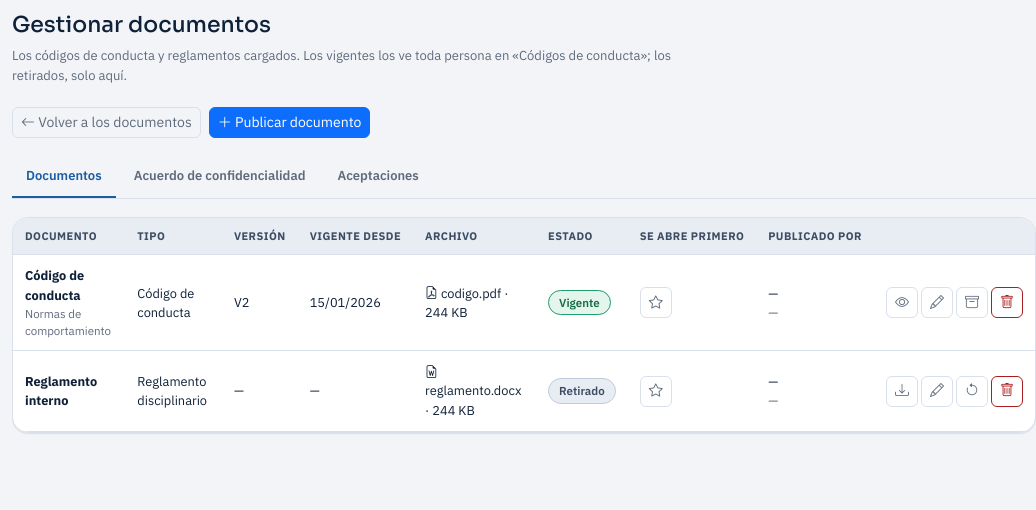
Test: Gestionar documentos › muestra quién falta, quién aceptó y cuándo
Click the tab "Aceptaciones": [378, 177] box [324,156,433,198]
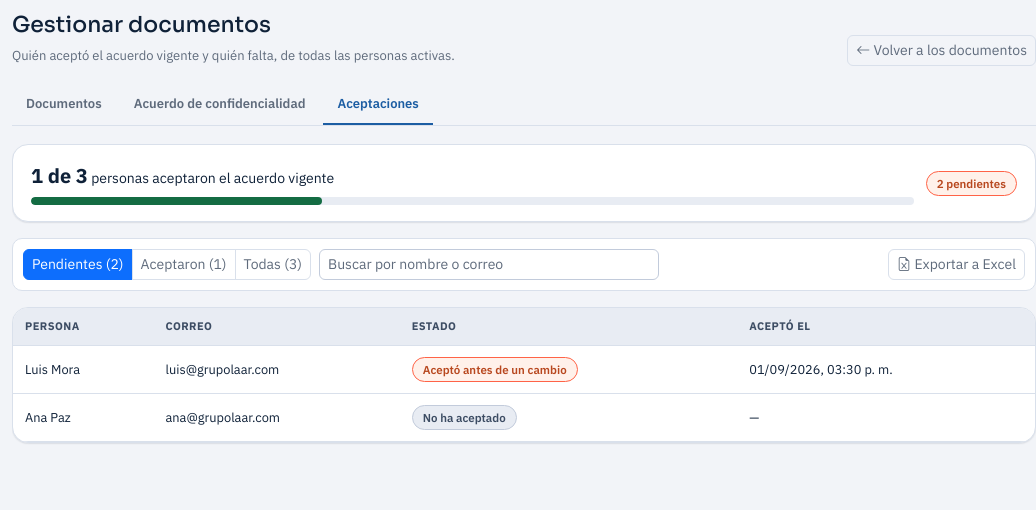
Expected: the text "1 de 3" is shown, [31,162,88,189]
Expected: the text "2 pendientes" is shown, [926,171,1017,196]
Expected: the text "Aceptó antes de un cambio" is shown, [412,357,578,382]
Click the button "Aceptaron (1)": [184, 265] box [132,249,236,280]
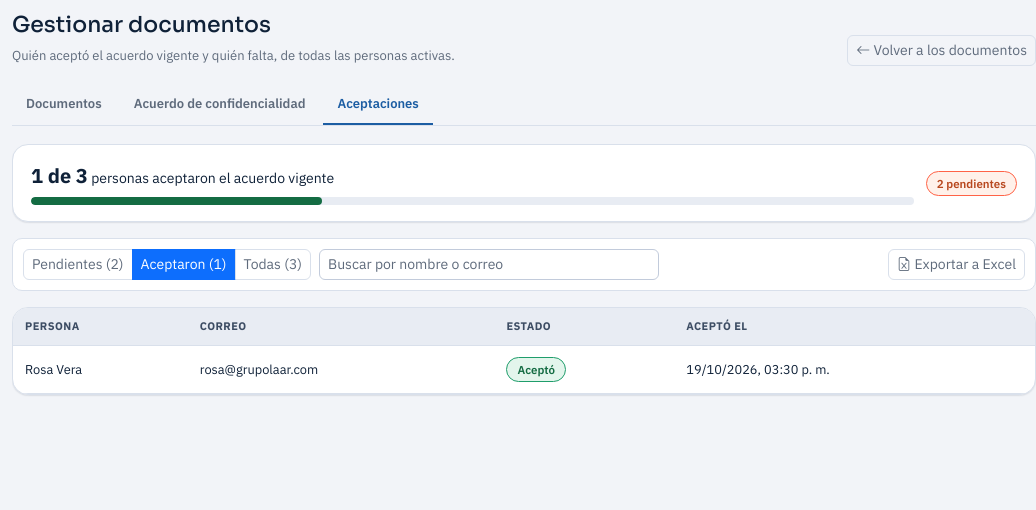
Expected: the text "Aceptó" is shown, [506,357,566,382]
Expected: the text "19/10/2026, 03:30 p. m." is shown, [674,346,1035,394]
Click the button "Todas (3)": [273, 265] box [235,249,311,280]
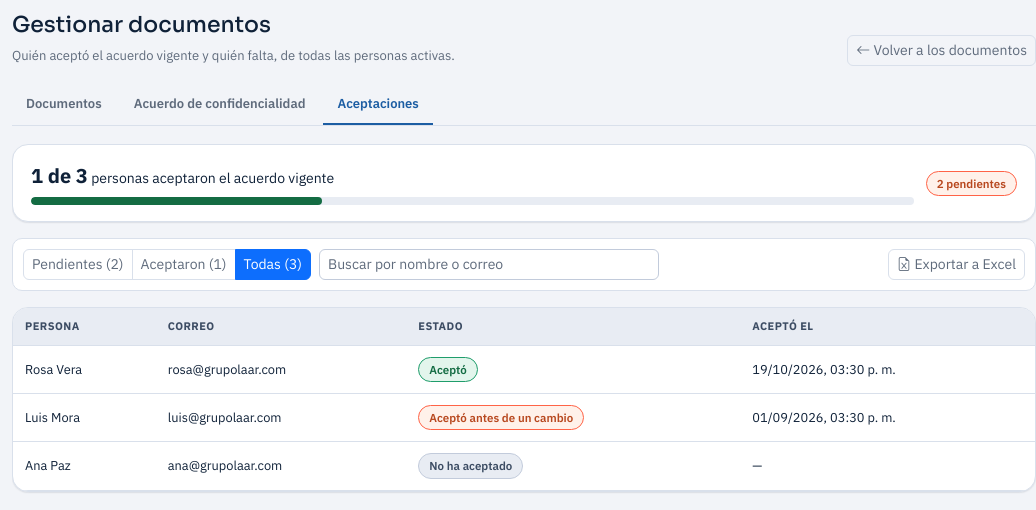
In the search field named "Buscar persona": [489, 265] box [319,249,659,280], type "ana@"
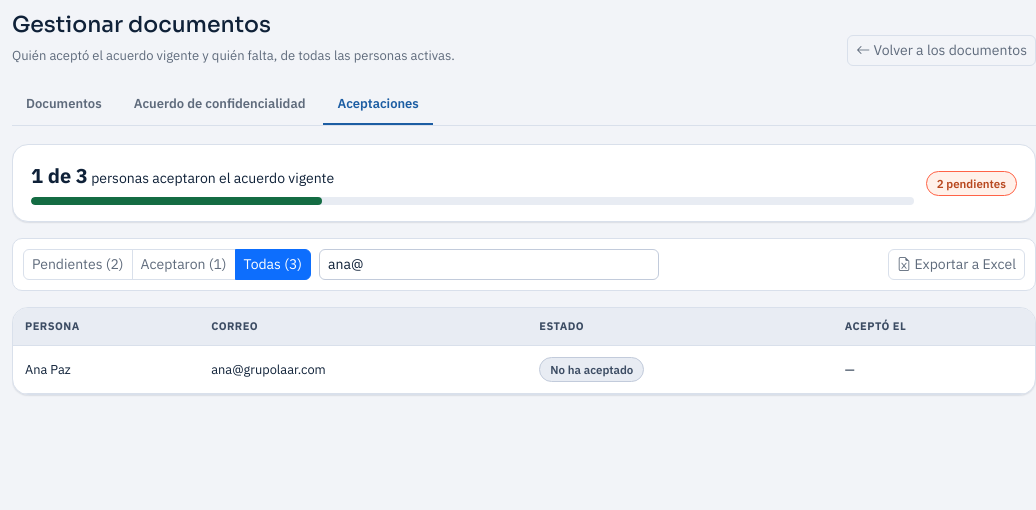
Expected: the text "Ana Paz" is shown, [13,346,199,394]
Expected: the text "Luis Mora" is gone
